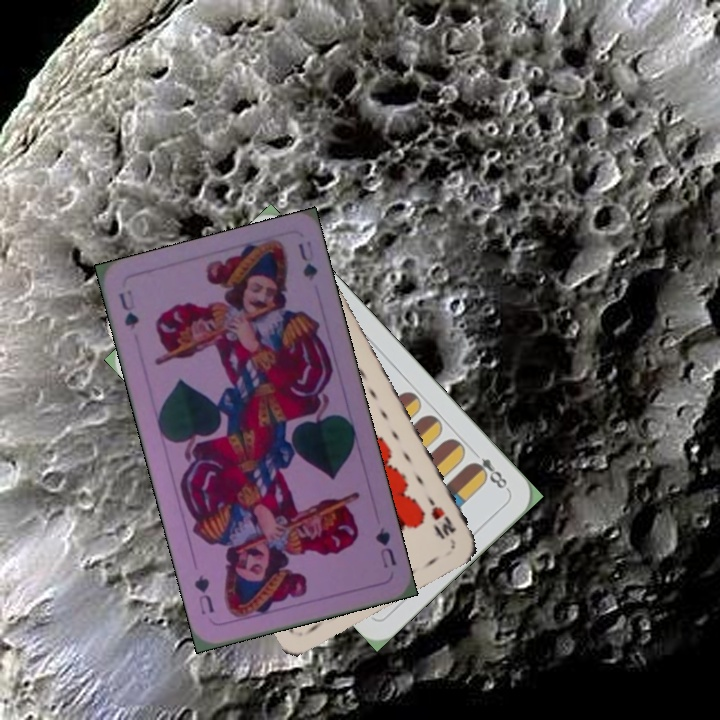E8: (466, 453, 512, 494)
GU: (371, 523, 399, 571), (115, 285, 142, 332)
H10: (423, 492, 459, 541)
